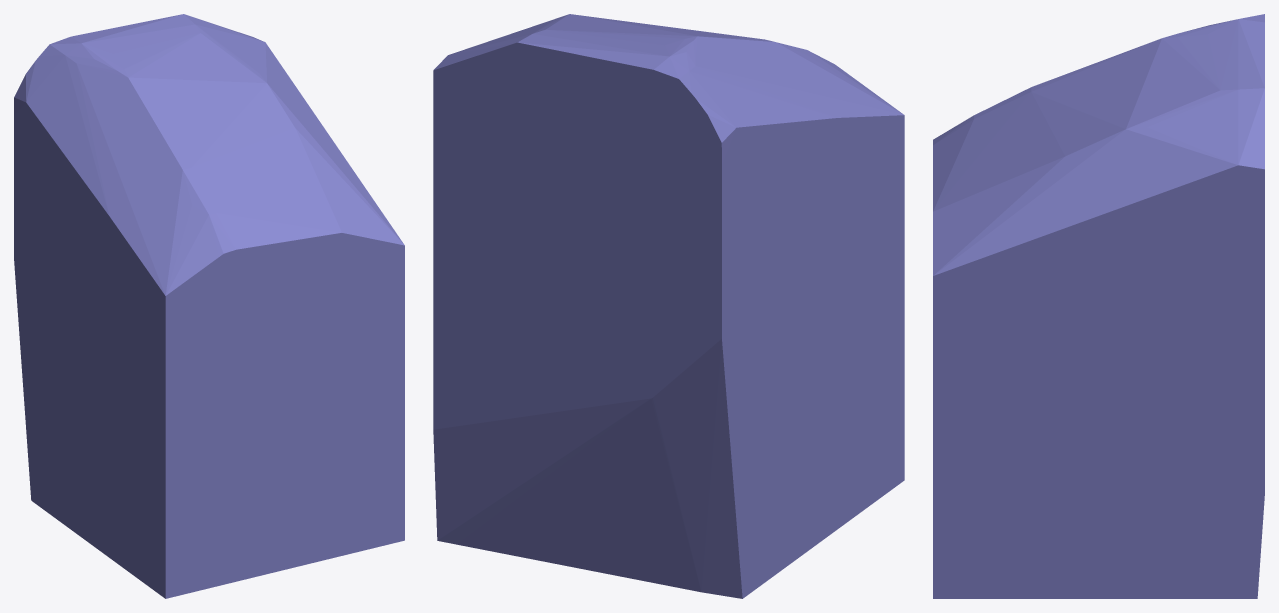
3 views of the same model, side by side, from view 1: azimuth 30°, elevation 25°; view 2: azimuth 150°, elevation 25°; view 3: azimuth 270°, elevation 25° (orthographic). The views are drawn at different scales.
Size of the model in its own units: 0.0168 by 0.0296 by 0.0184.
